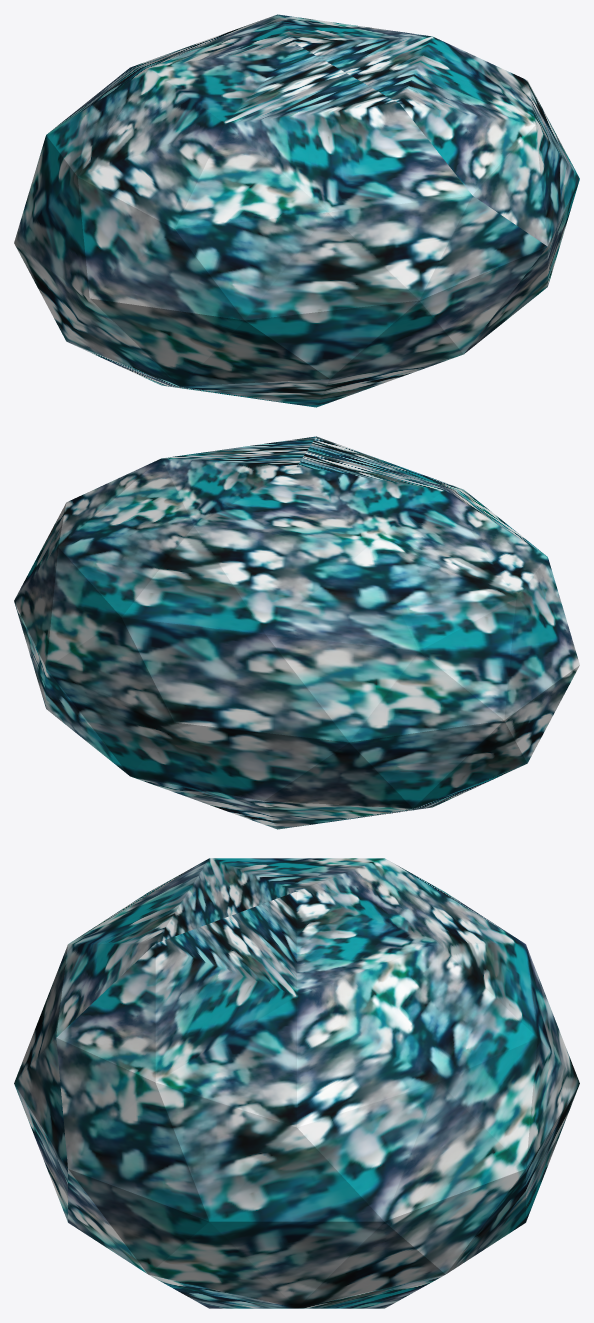
Rendered from Island_2_Tree_2_Leaf_1.gltf.
3 renders of one model, top to bottom at view 1: azimuth 30°, elevation 25°; view 2: azimuth 150°, elevation 25°; view 3: azimuth 270°, elevation 25°, orthographic. The views are drawn at different scales.
Parts seen in each view (by area): view 1: Island_2_Tree_2_Leaf_1; view 2: Island_2_Tree_2_Leaf_1; view 3: Island_2_Tree_2_Leaf_1.
Boxes of the visible parts, x1,y1,x2,y2 form: Island_2_Tree_2_Leaf_1: [14, 14, 579, 407]; Island_2_Tree_2_Leaf_1: [14, 436, 579, 829]; Island_2_Tree_2_Leaf_1: [14, 858, 579, 1308].
Bounding box in the file's own units: 0.543 × 0.3521 × 0.4699.
Materials: 1 (1 with a texture image).
